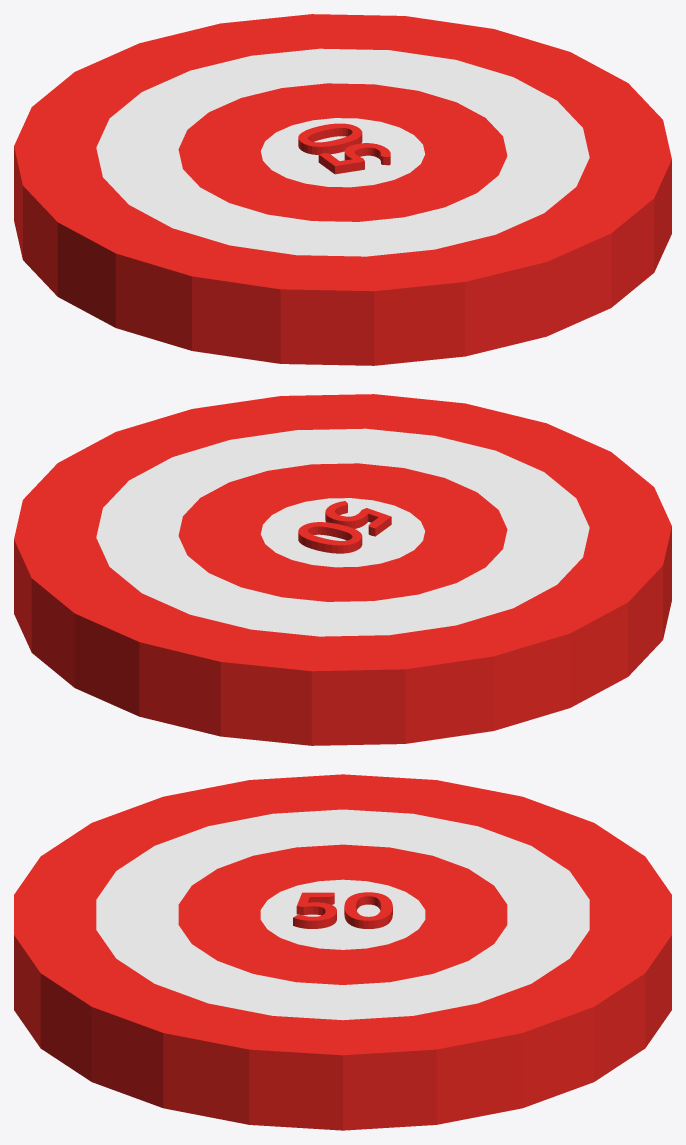
The model's file is Target50.fbx.
3 renders of one model, top to bottom at view 1: azimuth 30°, elevation 25°; view 2: azimuth 150°, elevation 25°; view 3: azimuth 270°, elevation 25°, orthographic.
Parts seen in each view (by area): view 1: divide1; view 2: divide1; view 3: divide1.
Boxes of the visible parts, box(x1,y1,x2,y2) form: divide1: box(14, 14, 671, 365); divide1: box(14, 394, 671, 745); divide1: box(14, 774, 671, 1130).
Size of the model in its own units: 1 by 0.1387 by 0.9898.
